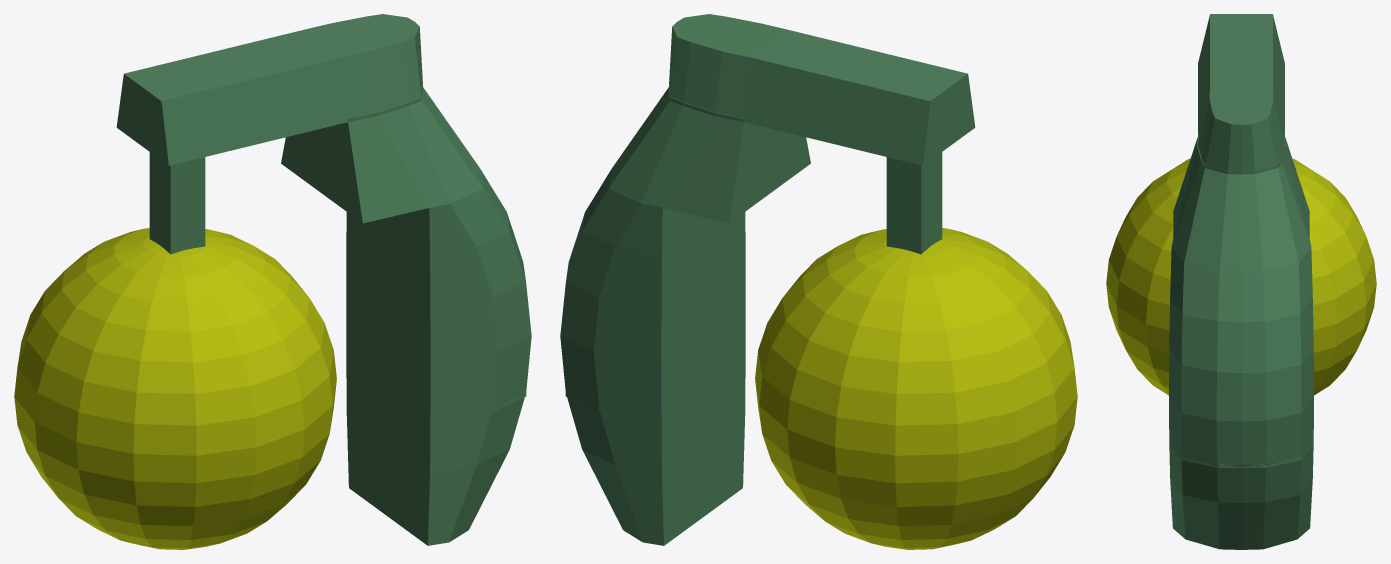
The model's file is scout_ship_interior.fbx.
3 views of the same model, side by side, from view 1: azimuth 30°, elevation 25°; view 2: azimuth 150°, elevation 25°; view 3: azimuth 270°, elevation 25° (orthographic). The views are drawn at different scales.
Parts seen in each view (by area): view 1: body_low.006; view 2: body_low.006; view 3: body_low.006, body_low.001.
Boxes of the visible parts, x1,y1,x2,y2 form: body_low.006: [14, 14, 531, 549]; body_low.006: [560, 14, 1077, 549]; body_low.006: [1106, 14, 1376, 549]; body_low.001: [1169, 441, 1313, 467].
Bounding box in the file's own units: 1324 × 1288 × 776.
